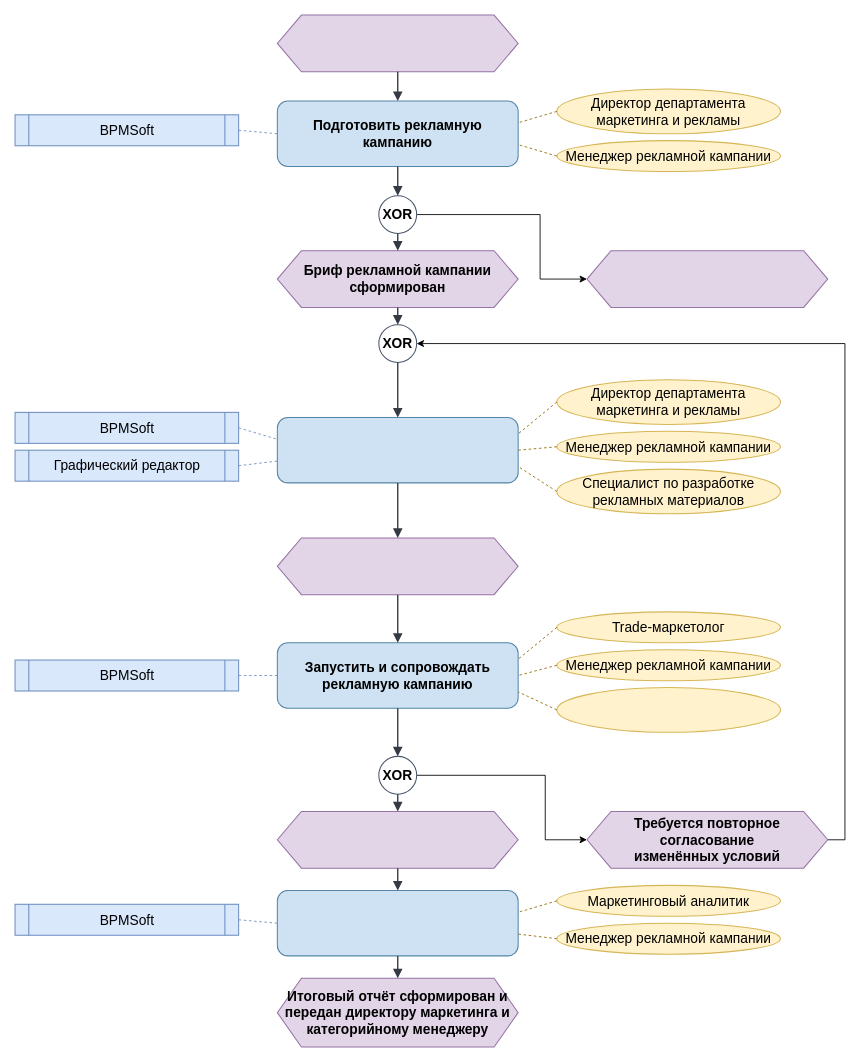
The diagram is 868 pixels wide and 1063 high, and some of its shapes have lost their labels. Here are the shapes that lost their labels. From the top down, the centre of each, then its label:
the point at 397,43: Возникла потребность в проведении рекламной кампании
the point at 707,279: Оформлено решение об отказе от проведения кампании
the point at 397,450: Разработать рекламную кампанию
the point at 397,566: Медиаплан и рекламные материалы согласованы
the point at 668,709: Специалист digital-коммуникаций
the point at 397,839: Период кампании завершён; данные мониторинга подготовлены
the point at 397,923: Оценить результаты рекламной кампании
